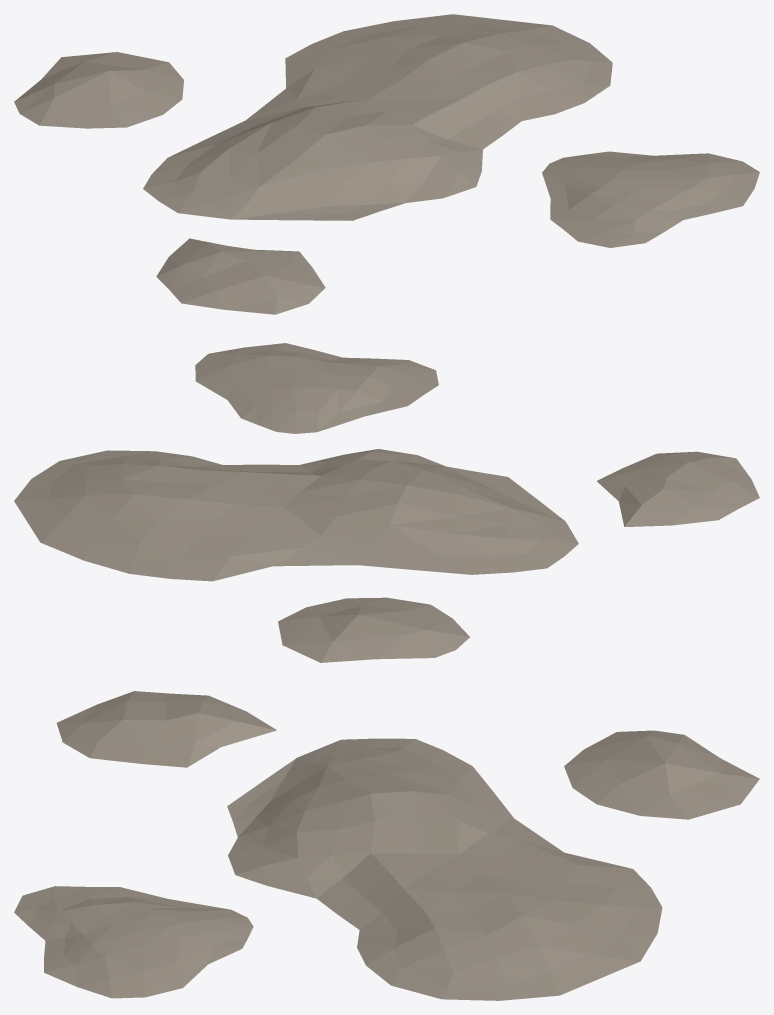
Rendered from deposit_01.glb.
3 renders of one model, top to bottom at view 1: azimuth 30°, elevation 25°; view 2: azimuth 150°, elevation 25°; view 3: azimuth 270°, elevation 25°, orthographic. The views are drawn at different scales.
Parts seen in each view (by area): view 1: deposit_01; view 2: deposit_01; view 3: deposit_01.
Boxes of the visible parts, box(x1,y1,x2,y2) form: deposit_01: box(14, 14, 759, 314); deposit_01: box(14, 343, 759, 662); deposit_01: box(14, 691, 759, 1000).
Bounding box in the file's own units: 10.63 × 0.5287 × 10.82.
Materials: 1 (1 with a texture image).
